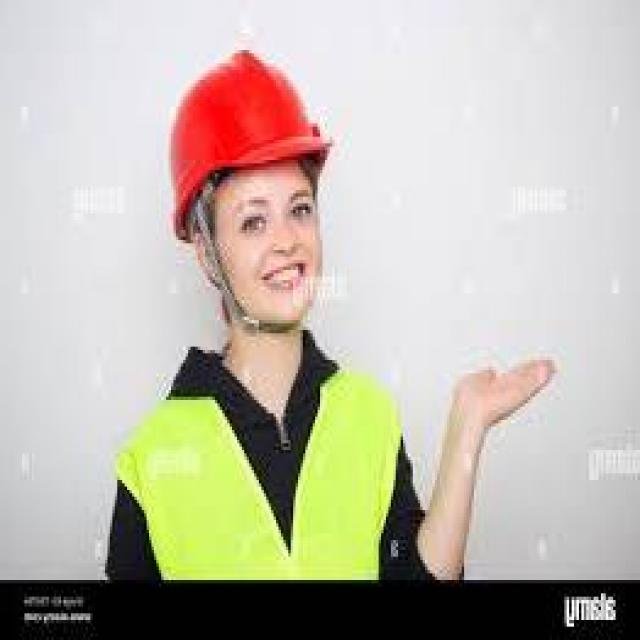Reflective-Jacket: (98, 343, 420, 590)
Safety-Helmet: (156, 44, 340, 234)
